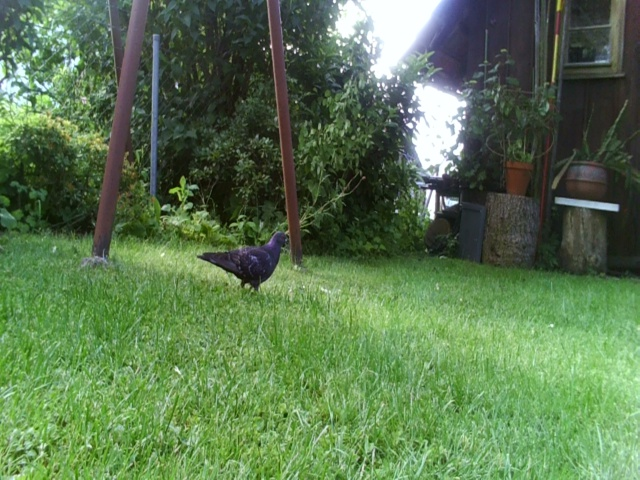Pigeon: (191, 230, 296, 291)
